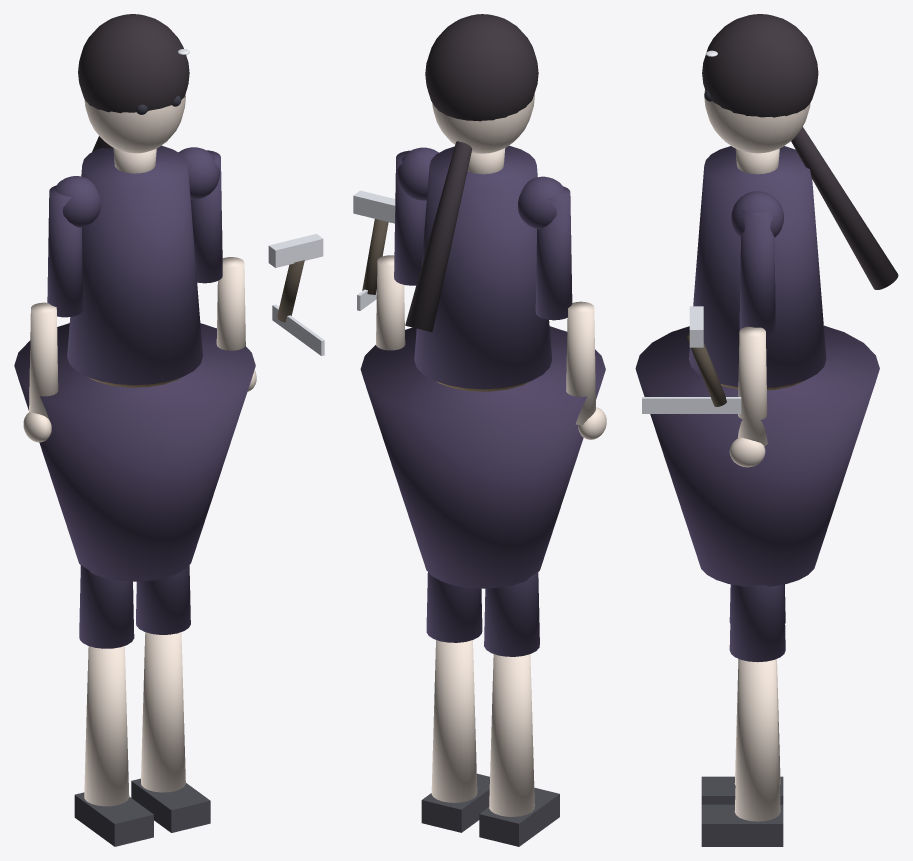
Rendered from lin_shuangwan.glb.
The picture shows the model from 3 angles, left to right: view 1: azimuth 30°, elevation 25°; view 2: azimuth 150°, elevation 25°; view 3: azimuth 270°, elevation 25°; orthographic projection.
Visible parts, largest first — view 1: Skirt, Torso, HairCap, ShinL, ShinR, ThighL, UpperArmL, Head, ThighR, ForeArmL, FootL, UpperArmR (+9 smaller); view 2: Skirt, Torso, HairCap, ShinL, ShinR, Ponytail, ThighL, UpperArmL, ThighR, ForeArmL, UpperArmR, Head (+9 smaller); view 3: Skirt, Torso, HairCap, ShinR, Ponytail, ThighR, UpperArmR, Head, ForeArmR, FootR, SwordBlade, ShoulderR (+5 smaller).
Boxes of the visible parts, x1,y1,x2,y2 form: Skirt: (14, 323, 255, 581); Torso: (67, 145, 202, 385); HairCap: (78, 14, 189, 112); ShinL: (84, 646, 129, 806); ShinR: (141, 632, 185, 792); ThighL: (79, 565, 134, 648); UpperArmL: (47, 185, 83, 317); Head: (84, 94, 185, 153); ThighR: (136, 565, 190, 634); ForeArmL: (29, 302, 58, 418); FootL: (74, 792, 153, 846); UpperArmR: (190, 150, 222, 283); Skirt: (360, 326, 605, 588); Torso: (414, 145, 552, 389); HairCap: (425, 14, 538, 121); ShinL: (489, 654, 534, 816); ShinR: (431, 640, 477, 802); Ponytail: (405, 141, 472, 332); ThighL: (484, 571, 539, 656); UpperArmL: (535, 186, 572, 320); ThighR: (426, 572, 482, 642); ForeArmL: (566, 301, 595, 424); UpperArmR: (394, 150, 426, 285); Head: (432, 94, 534, 153); Skirt: (635, 325, 879, 586); Torso: (689, 146, 826, 387); HairCap: (702, 14, 818, 117); ShinR: (734, 659, 780, 821); Ponytail: (791, 127, 898, 289); ThighR: (729, 584, 785, 662); UpperArmR: (739, 210, 775, 335); Head: (704, 90, 810, 153); ForeArmR: (738, 326, 767, 446); FootR: (701, 804, 783, 846); SwordBlade: (642, 397, 741, 413); ShoulderR: (731, 191, 784, 237).
Bounding box in the file's own units: 0.6156 × 1.74 × 0.5164.
